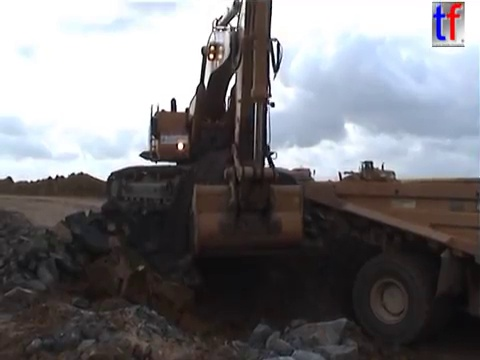excavator: (102, 1, 315, 263)
truck: (300, 176, 480, 349)
wheel loader: (326, 159, 398, 191)
